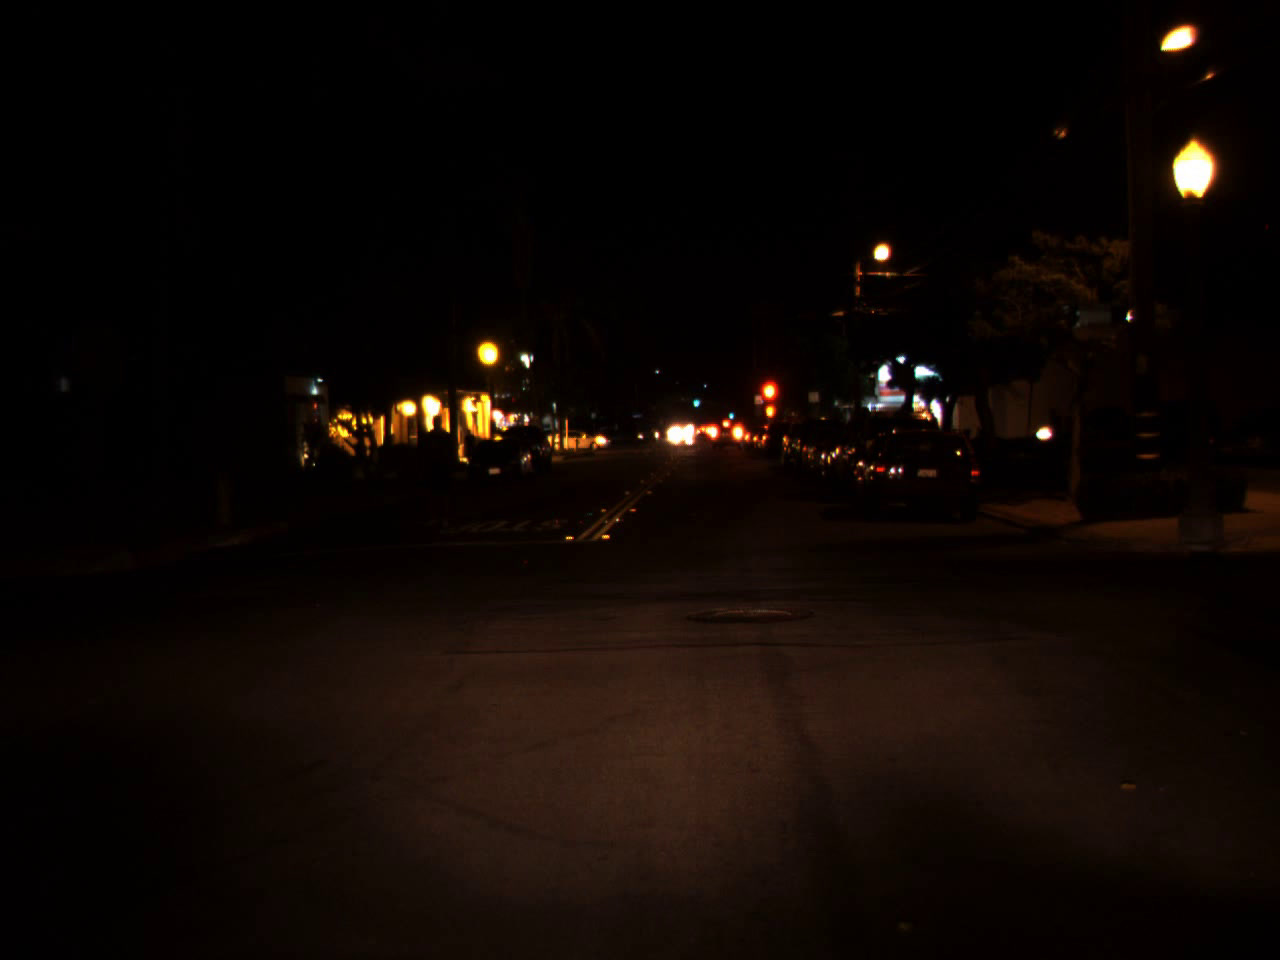go: (691, 392, 700, 407), (726, 405, 735, 420)
stop: (753, 377, 781, 425)
